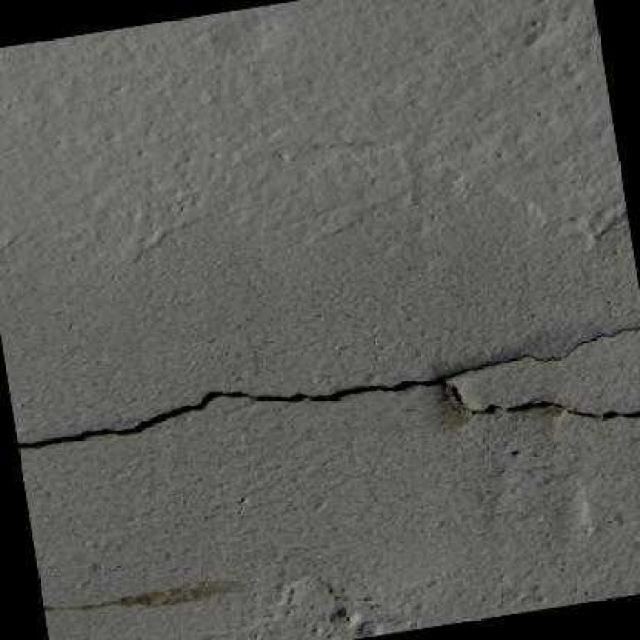D00: (15, 321, 640, 452)
